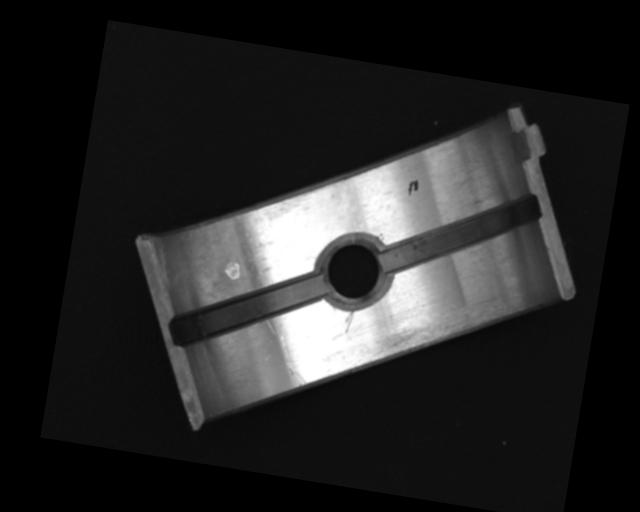blot: (405, 177, 420, 197)
bruise: (222, 259, 241, 281)
gap: (378, 175, 543, 293), (168, 256, 325, 363)
hole: (312, 229, 399, 311)
nick: (272, 333, 314, 388), (343, 308, 354, 334)
scratch: (375, 287, 522, 380)
